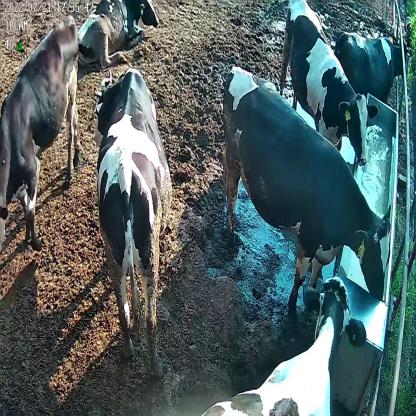cow: (223, 58, 394, 310), (92, 64, 172, 377), (198, 278, 366, 416), (0, 15, 79, 258), (279, 1, 379, 168), (78, 0, 160, 67), (334, 28, 408, 101)
